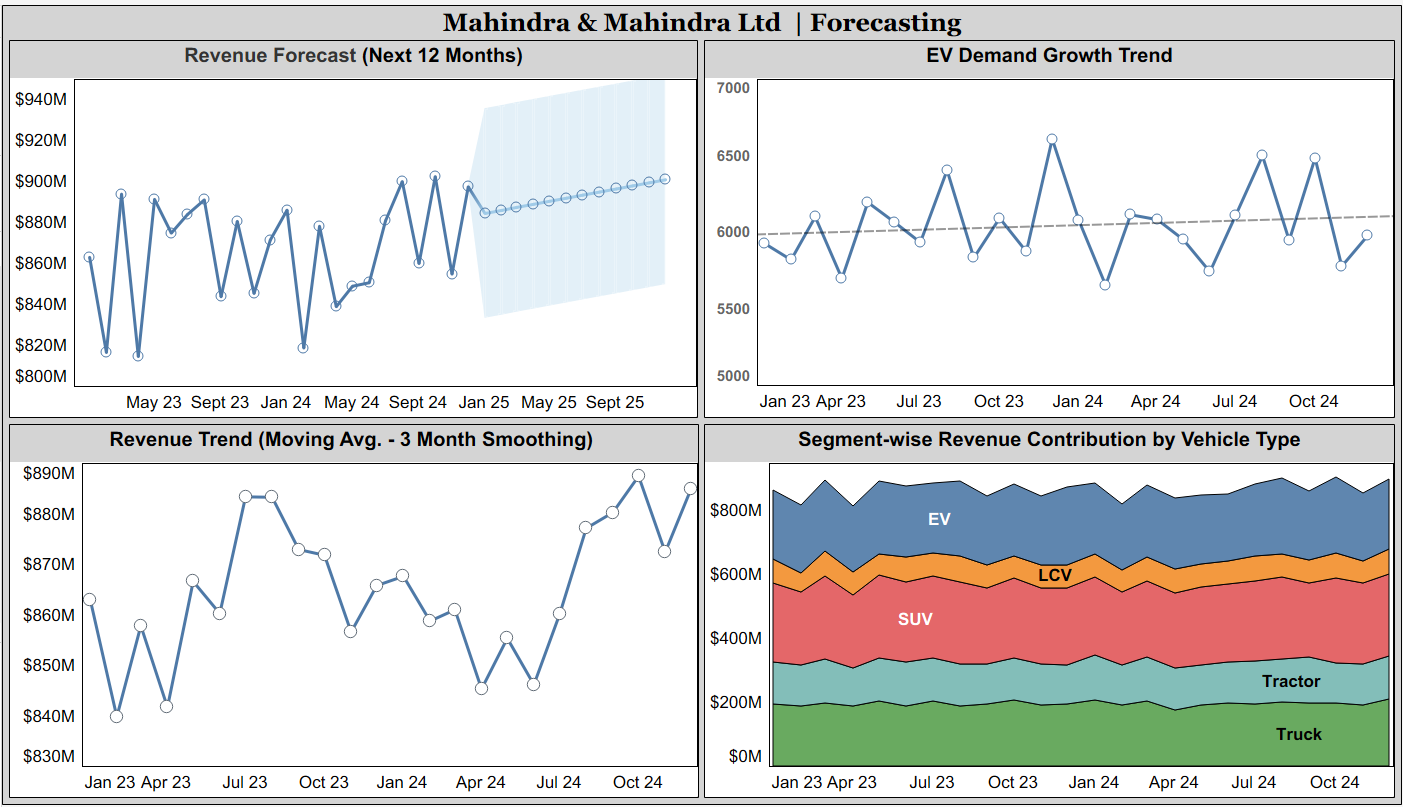

The dashboard page shown, as its layout file describes it:
{"tool":"tableau","page":{"name":"Forecasting","canvas":[1400,800],"ordinal":2},"visuals":[{"type":"text","box":[0,0,1400,35]},{"type":"legend","title":"Segment-wise Revenue Contribution by Vehicle Type","param":"[federated.01f4c821fhjjpd19cfhjd00zn2tc].[none:Vehicle_Type:nk]","box":[1232,8,160,128]},{"type":"worksheet","title":"Revenue Forecast (Next 12 Months)","mark":"Automatic","rows":["Revenue_USD","Revenue_USD"],"cols":["Date"],"box":[7,35,689,378]},{"type":"worksheet","title":"EV Demand Growth","mark":"Line","rows":["Units_Sold","Units_Sold"],"cols":["Date"],"box":[702,35,691,378]},{"type":"worksheet","title":"Revenue Trend (Moving Avg. - 3 Month Smoothing) ","mark":"Automatic","rows":["Revenue_USD","Revenue_USD"],"cols":["Date"],"box":[7,419,690,374]},{"type":"worksheet","title":"Segment-wise Revenue Contribution by Vehicle Type","mark":"Area","rows":["Revenue_USD"],"cols":["Date"],"box":[702,419,691,374]}]}

Visuals, with their boxes in screenshot pixels (x1, y1, x2, y2), scaled from the page's 1400x800 canvas onto the 1403x807 screenshot:
text: bbox=(0, 0, 1402, 35)
"Segment-wise Revenue Contribution by Vehicle Type" legend: bbox=(1235, 8, 1395, 137)
"Revenue Forecast (Next 12 Months)" worksheet: bbox=(7, 35, 697, 417)
"EV Demand Growth" worksheet (Line marks): bbox=(704, 35, 1396, 417)
"Revenue Trend (Moving Avg. - 3 Month Smoothing) " worksheet: bbox=(7, 423, 698, 800)
"Segment-wise Revenue Contribution by Vehicle Type" worksheet (Area marks): bbox=(704, 423, 1396, 800)
